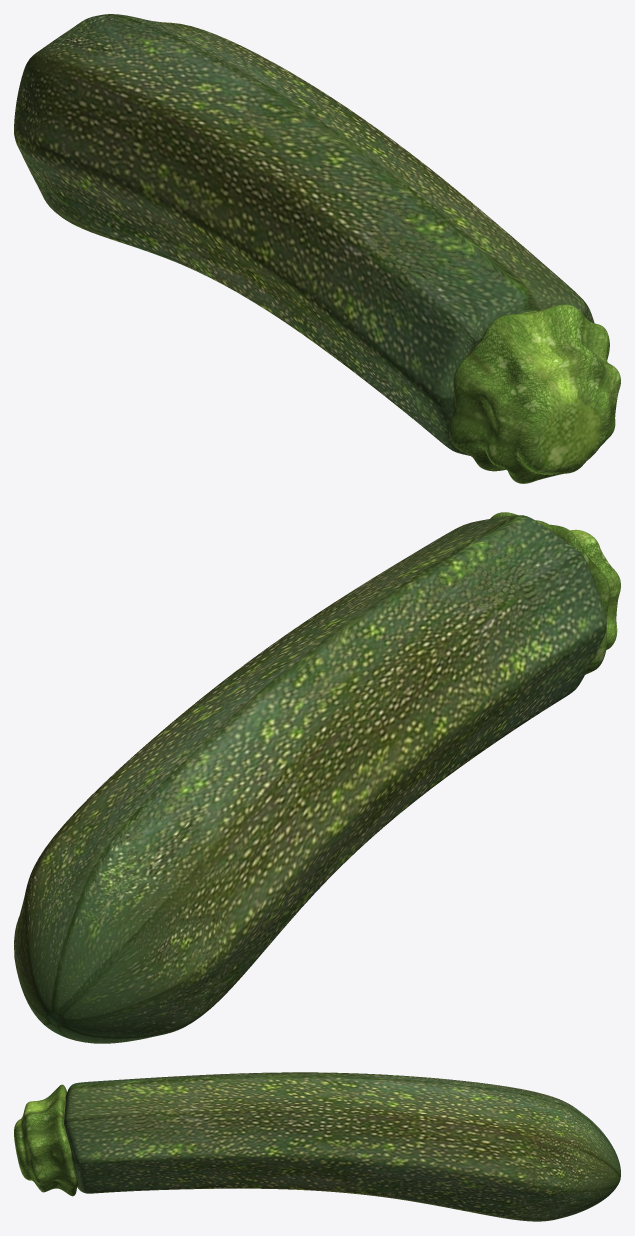
File: zucchini.obj
3 renders of one model, top to bottom at view 1: azimuth 30°, elevation 25°; view 2: azimuth 150°, elevation 25°; view 3: azimuth 270°, elevation 25°, orthographic. The views are drawn at different scales.
Parts seen in each view (by area): view 1: Zucchini_Mesh; view 2: Zucchini_Mesh; view 3: Zucchini_Mesh.
Part boxes in pixels (left/top/right/bottom): Zucchini_Mesh: left=14, top=14, right=620, bottom=483; Zucchini_Mesh: left=14, top=512, right=620, bottom=1043; Zucchini_Mesh: left=14, top=1072, right=620, bottom=1221.
Bounding box in the file's own units: 4.46 × 5.2 × 20.3.
1 material, 1 textured.
